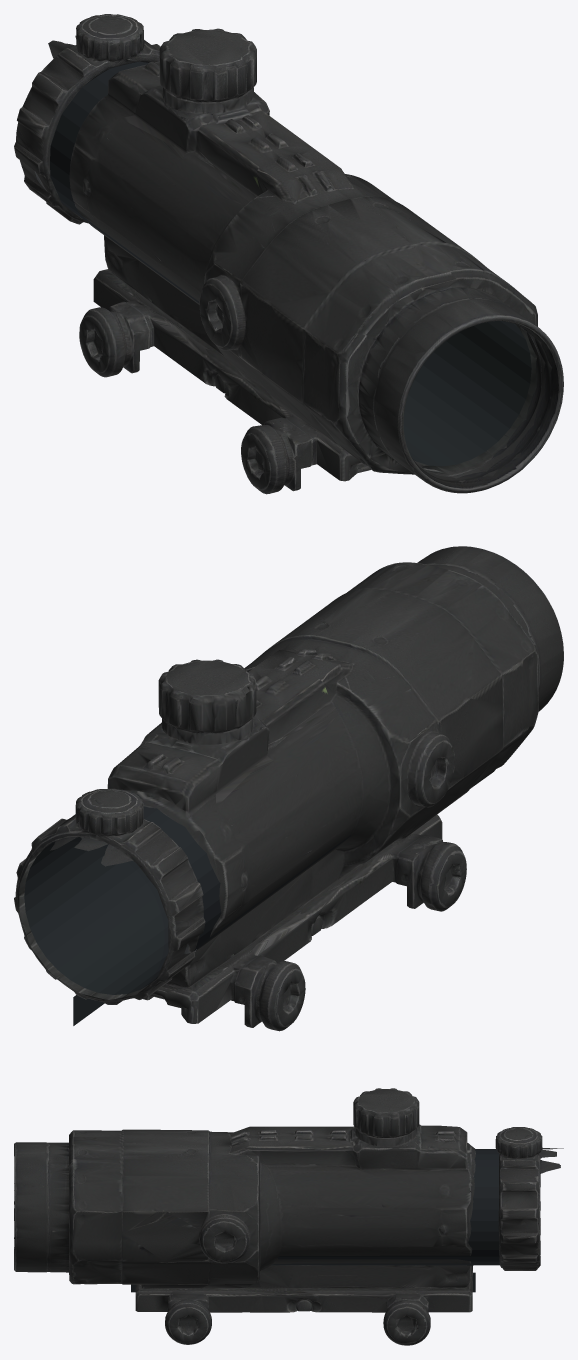
File: tobi_prism_geometry.glb
The picture shows the model from 3 angles, top to bottom: view 1: azimuth 30°, elevation 25°; view 2: azimuth 150°, elevation 25°; view 3: azimuth 270°, elevation 25°; orthographic projection. The views are drawn at different scales.
Parts seen in each view (by area): view 1: Tobi_Prism_Housing; view 2: Tobi_Prism_Housing; view 3: Tobi_Prism_Housing.
Boxes of the visible parts, box(x1,y1,x2,y2) form: Tobi_Prism_Housing: box(14, 14, 563, 494); Tobi_Prism_Housing: box(14, 546, 563, 1031); Tobi_Prism_Housing: box(14, 1088, 563, 1345).
Size of the model in its own units: 0.0361 by 0.0487 by 0.1133.
Materials: 3 (1 with a texture image).
